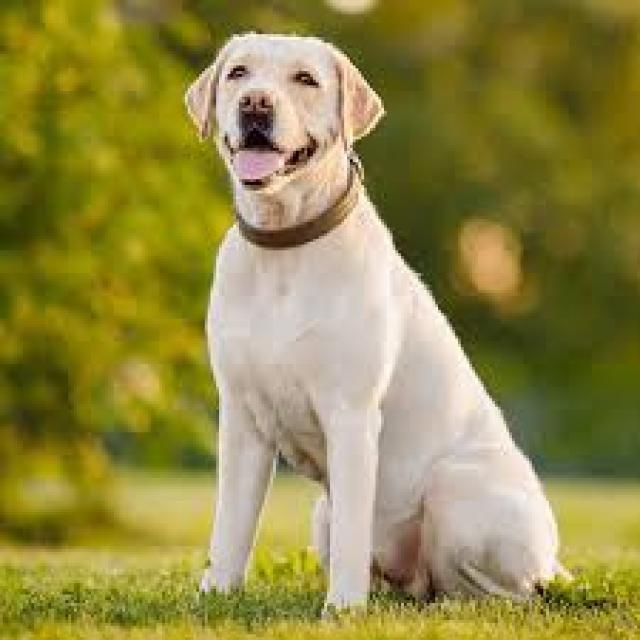Abrador: (186, 37, 573, 618), (469, 495, 485, 526)
